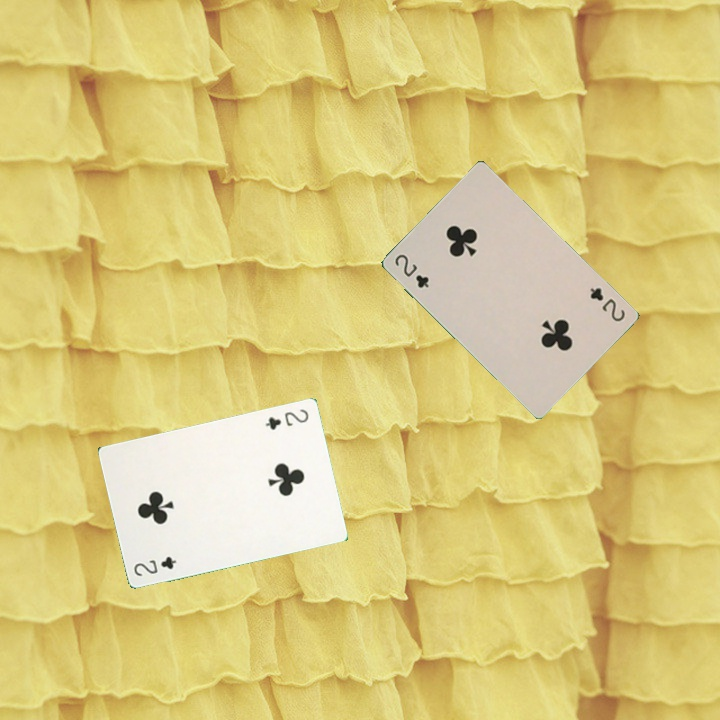2c: (391, 250, 432, 291), (586, 284, 628, 324), (261, 405, 311, 432), (130, 552, 179, 579)
